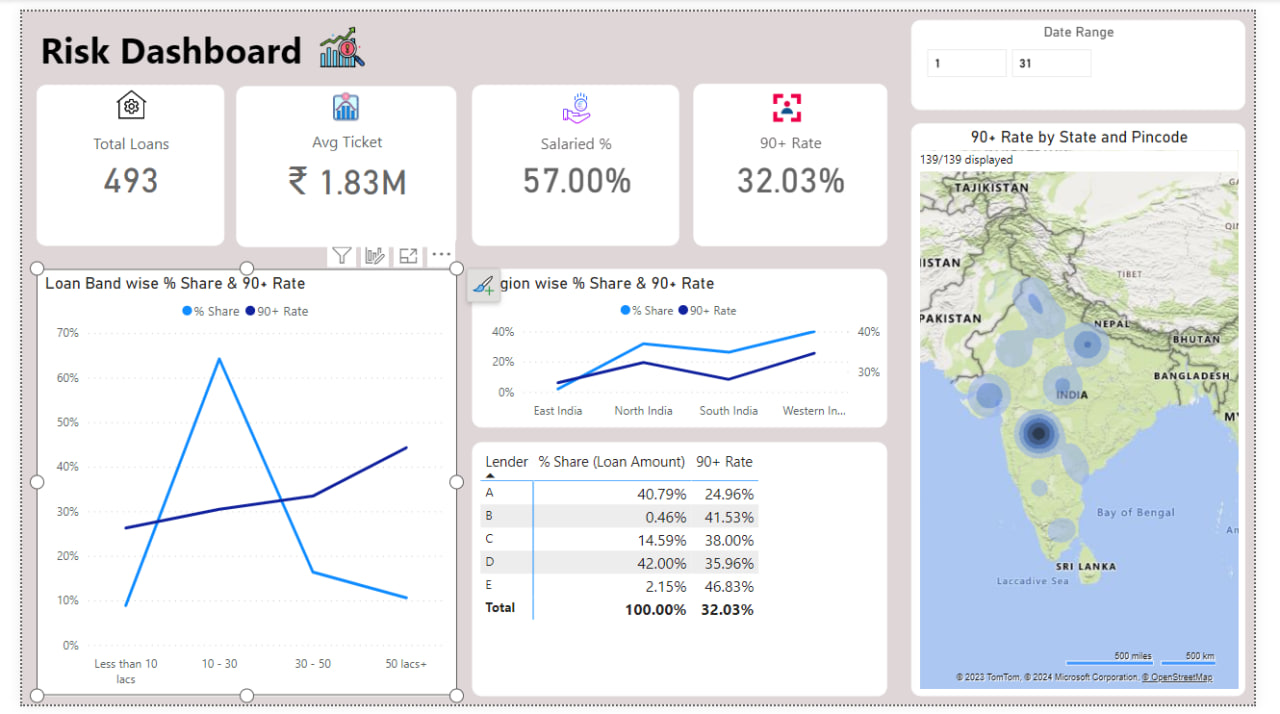

This screenshot's page, from the dashboard's own definition file:
{"tool":"powerbi","page":{"name":"Risk Dashboard","canvas":[1280,720],"ordinal":8},"visuals":[{"type":"cardVisual","title":"Total Loans","fields":{"Data":["All_measures.Number of Loans"]},"box":[15.1,77.3,195.5,167.5],"z":0,"group":"g1"},{"type":"lineStackedColumnComboChart","title":" Loan Band wise % Share & 90+ Rate","fields":{"Category":["Data.Loan Band"],"Y2":["Divide(All_measures.Total Loan Amount, ScopedEval(All_measures.Total Loan Amount, []))","All_measures.90+ Rate"]},"box":[15,267.5,436.2,443.8],"z":0},{"type":"lineChart","title":"Region wise % Share & 90+ Rate","fields":{"Category":["Data.Region","Data.State","Data.BRANCHNAME"],"Y2":["All_measures.90+ Rate"],"Y":["Divide(All_measures.Total Loan Amount, ScopedEval(All_measures.Total Loan Amount, []))"]},"box":[467.5,266.9,431.4,212.1],"z":1000},{"type":"cardVisual","title":"Avg Ticket","fields":{"Data":["All_measures.Avg Ticket"]},"box":[222.3,77.4,229.2,166.9],"z":2000},{"type":"cardVisual","title":"Salaried %","fields":{"Data":["All_measures.Salaried %"]},"box":[467.9,76.8,215.4,167.4],"z":3000,"group":"g2"},{"type":"pivotTable","fields":{"Rows":["Data.Lender"],"Values":["All_measures.Total Loan Amount","All_measures.90+ Rate"]},"box":[467.5,489.1,431.4,222.2],"z":3000},{"type":"image","box":[775.3,76.8,48,39.8],"z":4000},{"type":"heatmapF244EA9EE1F34E828A80CF19B41976F8","fields":{"location":["Data.State"],"group":["Data.Pincode"],"value":["All_measures.90+ Rate"]},"box":[923.8,116.2,347.5,595],"z":5000},{"type":"group","id":"g1","title":"Group 3","box":[15.1,76.8,194.9,167.4],"z":6000},{"type":"slicer","title":"Date Range","fields":{"Values":["Data.Loan Sanction Date.Variation.Date Hierarchy.Day"]},"box":[923.5,8.2,347.2,93.3],"z":7000},{"type":"textbox","box":[13.7,8.2,1257,68.6],"z":8000},{"type":"image","box":[316.3,76.8,41,45.5],"z":9000},{"type":"image","box":[91.5,76.8,44,41.6],"z":9001,"group":"g1"},{"type":"image","box":[797.2,72.7,48.9,40.8],"z":10000},{"type":"image","box":[554.3,79.1,45.3,45.4],"z":10000,"group":"g2"},{"type":"image","box":[300.5,8.2,65.9,56.3],"z":11000},{"type":"cardVisual","fields":{"Data":["All_measures.90+ Rate"]},"box":[697.1,75.5,201.7,168.8],"z":12000},{"type":"group","id":"g2","title":"Group 5","box":[467.9,76.8,215.4,167.4],"z":13000},{"type":"image","box":[771.6,79.2,46.2,42.5],"z":14000}]}

Visuals, with their boxes in screenshot pixels (x1, y1, x2, y2), scaled from the page's 1280x720 canvas onto the 1280x714 screenshot:
"Total Loans" cardVisual: (x1=15, y1=77, x2=211, y2=243)
" Loan Band wise % Share & 90+ Rate" lineStackedColumnComboChart: (x1=15, y1=265, x2=451, y2=705)
"Region wise % Share & 90+ Rate" lineChart: (x1=468, y1=265, x2=899, y2=475)
"Avg Ticket" cardVisual: (x1=222, y1=77, x2=452, y2=242)
"Salaried %" cardVisual: (x1=468, y1=76, x2=683, y2=242)
pivotTable - Data.Lender x All_measures.Total Loan Amount: (x1=468, y1=485, x2=899, y2=705)
image: (x1=775, y1=76, x2=823, y2=116)
heatmapF244EA9EE1F34E828A80CF19B41976F8 - Data.State x Data.Pincode: (x1=924, y1=115, x2=1271, y2=705)
"Group 3" group: (x1=15, y1=76, x2=210, y2=242)
"Date Range" slicer: (x1=924, y1=8, x2=1271, y2=101)
textbox: (x1=14, y1=8, x2=1271, y2=76)
image: (x1=316, y1=76, x2=357, y2=121)
image: (x1=92, y1=76, x2=136, y2=117)
image: (x1=797, y1=72, x2=846, y2=113)
image: (x1=554, y1=78, x2=600, y2=123)
image: (x1=300, y1=8, x2=366, y2=64)
cardVisual - All_measures.90+ Rate: (x1=697, y1=75, x2=899, y2=242)
"Group 5" group: (x1=468, y1=76, x2=683, y2=242)
image: (x1=772, y1=79, x2=818, y2=121)
